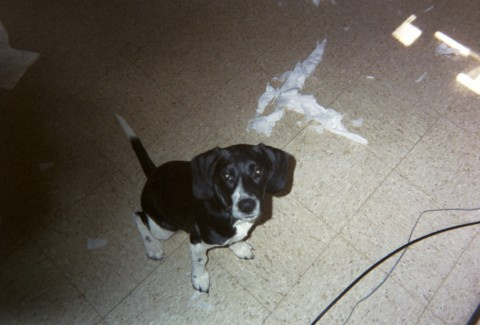dog: (112, 111, 292, 297)
